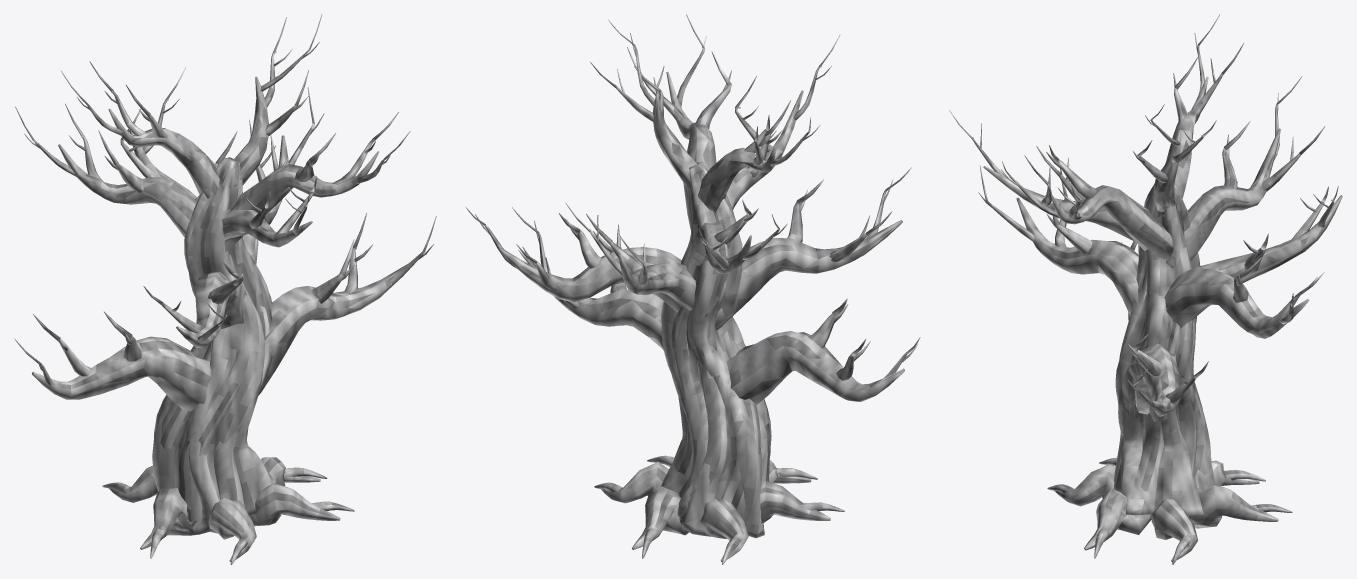
Rendered from wood-v4-uv.glb.
3 views of the same model, side by side, from view 1: azimuth 30°, elevation 25°; view 2: azimuth 150°, elevation 25°; view 3: azimuth 270°, elevation 25° (orthographic). The views are drawn at different scales.
Visible parts, largest first — view 1: Wood_V4; view 2: Wood_V4; view 3: Wood_V4.
Boxes of the visible parts, left/top/right/bottom form: Wood_V4: left=14, top=14, right=436, bottom=564; Wood_V4: left=465, top=14, right=920, bottom=564; Wood_V4: left=949, top=14, right=1342, bottom=564.
Size of the model in its own units: 43.76 by 48.54 by 36.84.
3 materials, 3 textured.
